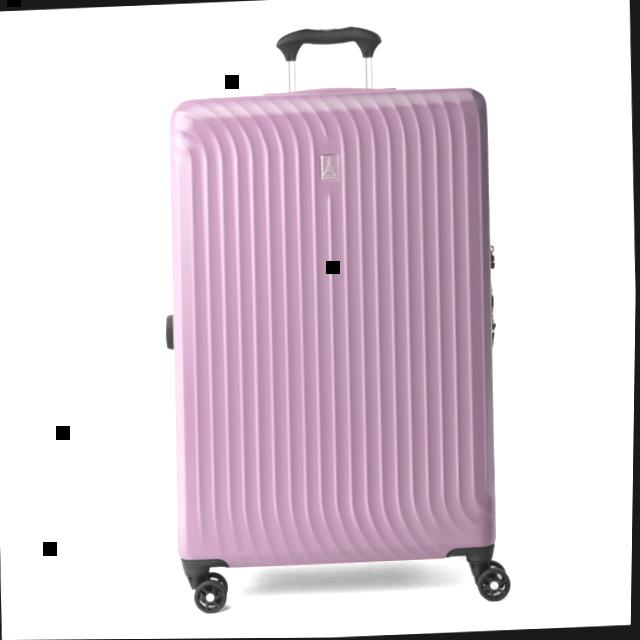luggage: (140, 67, 528, 622)
